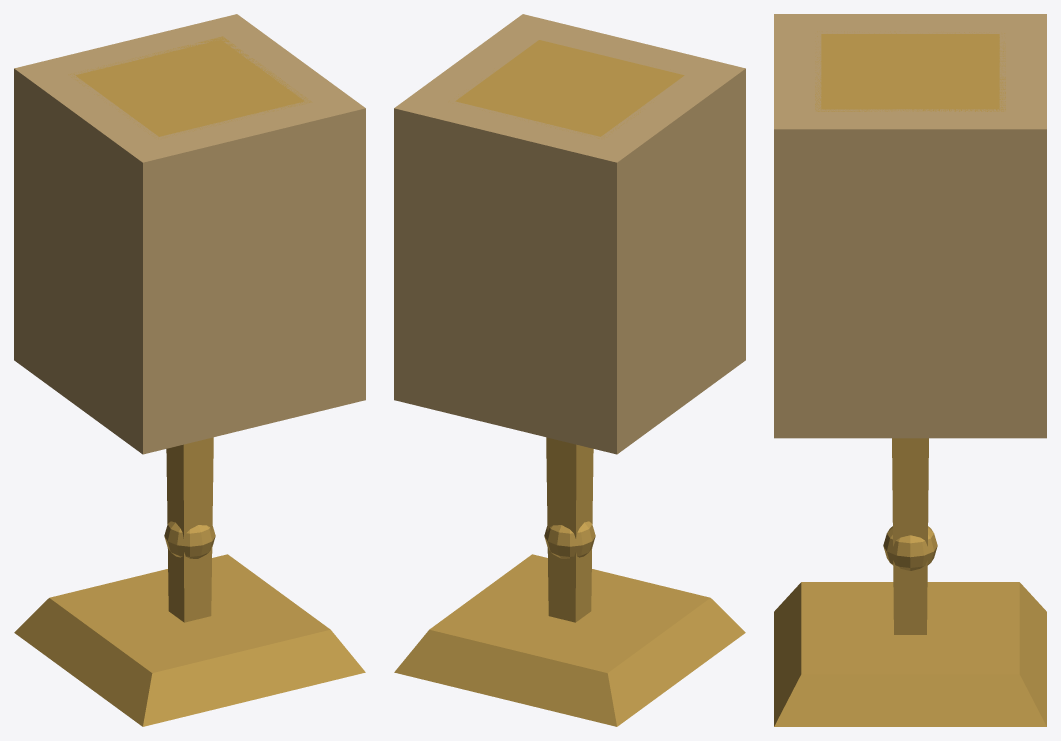
Rendered from lampSquareTable.glb.
3 views of the same model, side by side, from view 1: azimuth 30°, elevation 25°; view 2: azimuth 150°, elevation 25°; view 3: azimuth 270°, elevation 25° (orthographic). The views are drawn at different scales.
Parts seen in each view (by area): view 1: lampSquareTable(Clone); view 2: lampSquareTable(Clone); view 3: lampSquareTable(Clone).
Boxes of the visible parts, bbox=[...] form: lampSquareTable(Clone): bbox=[14, 14, 365, 726]; lampSquareTable(Clone): bbox=[394, 14, 745, 726]; lampSquareTable(Clone): bbox=[774, 14, 1046, 726].
Size of the model in its own units: 0.12 by 0.29 by 0.12.
